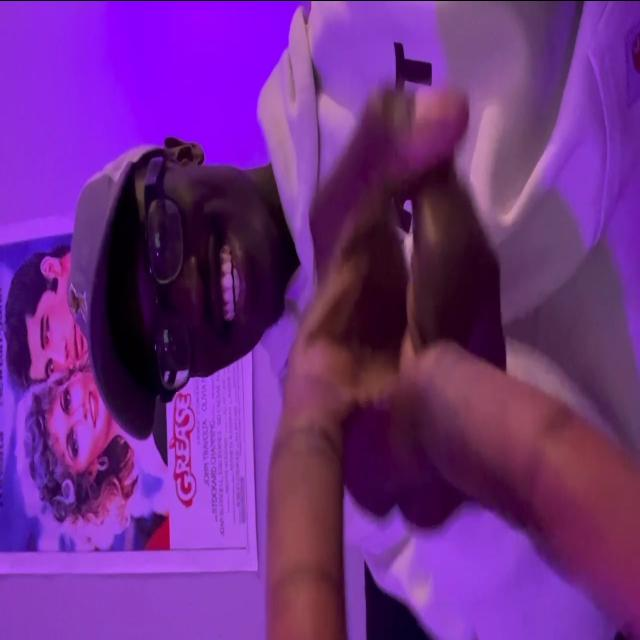Scissors: (263, 68, 640, 640)
